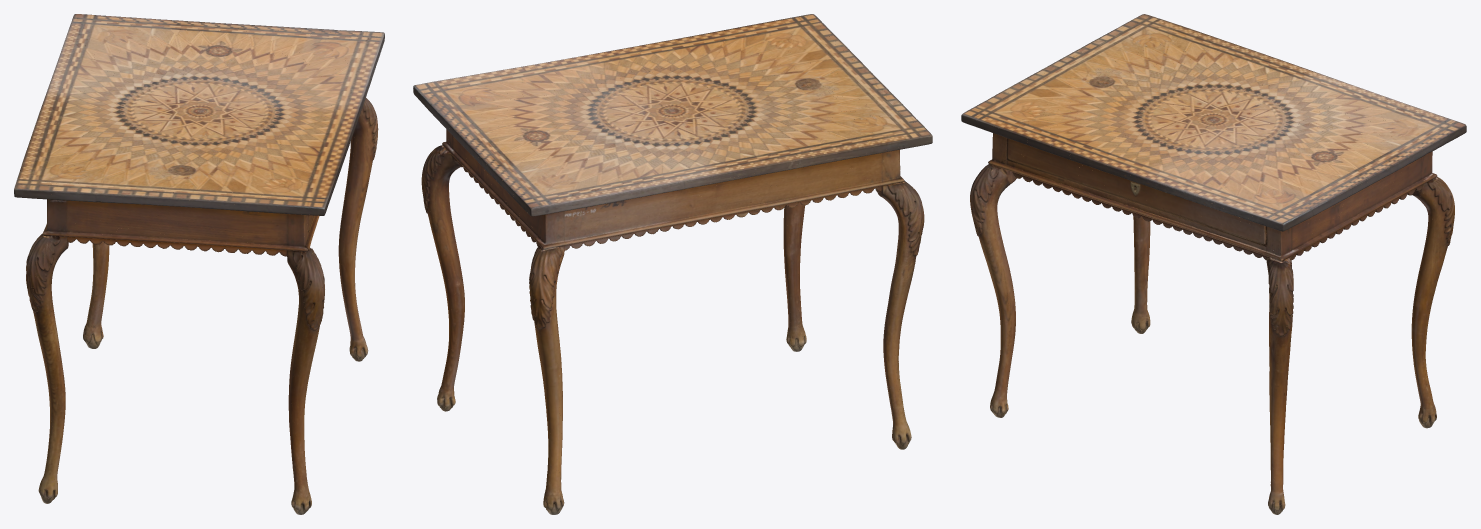
File: table.glb
3 views of the same model, side by side, from view 1: azimuth 30°, elevation 25°; view 2: azimuth 150°, elevation 25°; view 3: azimuth 270°, elevation 25° (orthographic). The views are drawn at different scales.
Visible parts, largest first — view 1: Object_2, Object_3, Object_4; view 2: Object_2, Object_3, Object_4; view 3: Object_2, Object_3, Object_4.
Part boxes in pixels (x1,y1,x2,y2): Object_2: (20, 14, 383, 514); Object_3: (14, 14, 384, 514); Object_4: (14, 14, 384, 514); Object_2: (413, 19, 921, 514); Object_3: (416, 14, 932, 512); Object_4: (413, 14, 932, 514); Object_2: (971, 18, 1466, 504); Object_3: (961, 14, 1466, 514); Object_4: (962, 14, 1466, 514).
Bounding box in the file's own units: 1.22 × 0.8485 × 1.26.
Materials: 1 (1 with a texture image).
